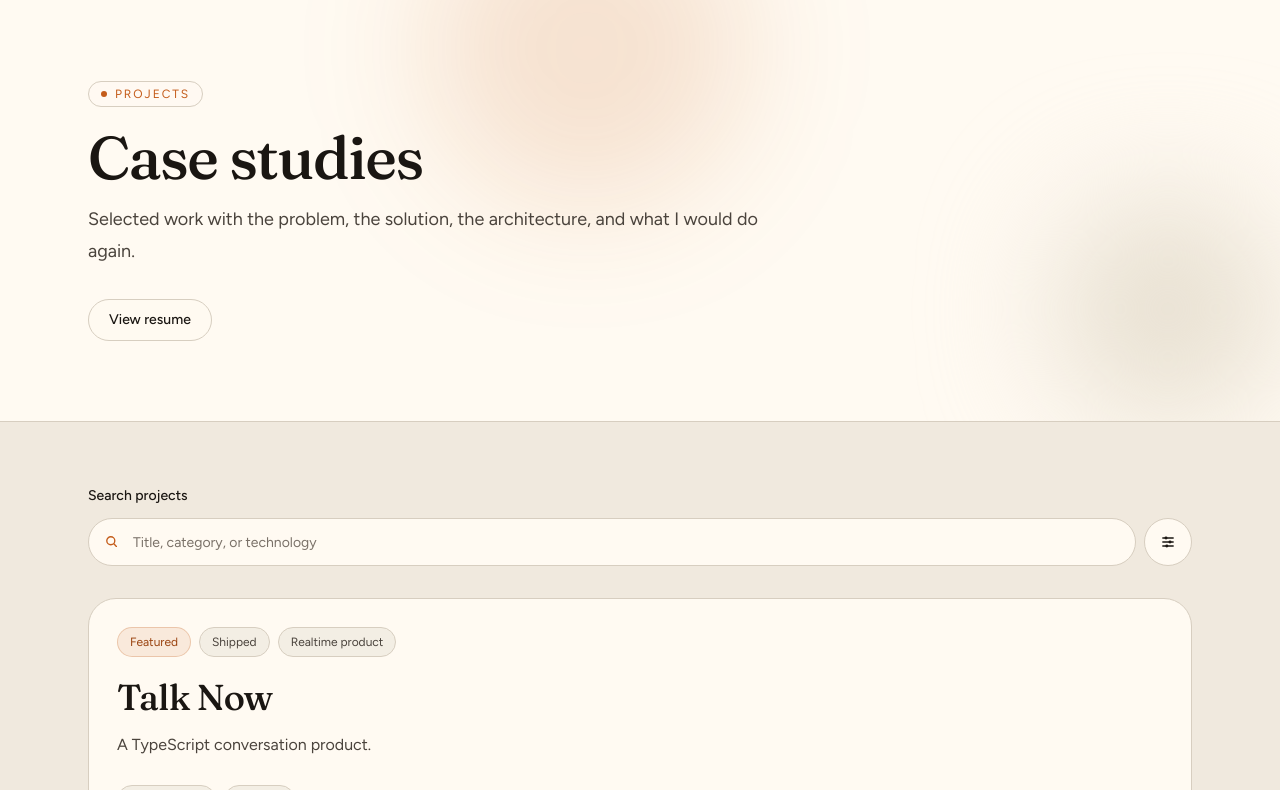
it: ProjectsPage › filters case studies by search and technology
Check: the text "A TypeScript conversation product." is shown, box x1=117 y1=735 x2=371 y2=754
Type "Post" into the search field labelled "Search projects" at (612, 542), box x1=88 y1=518 x2=1136 y2=566
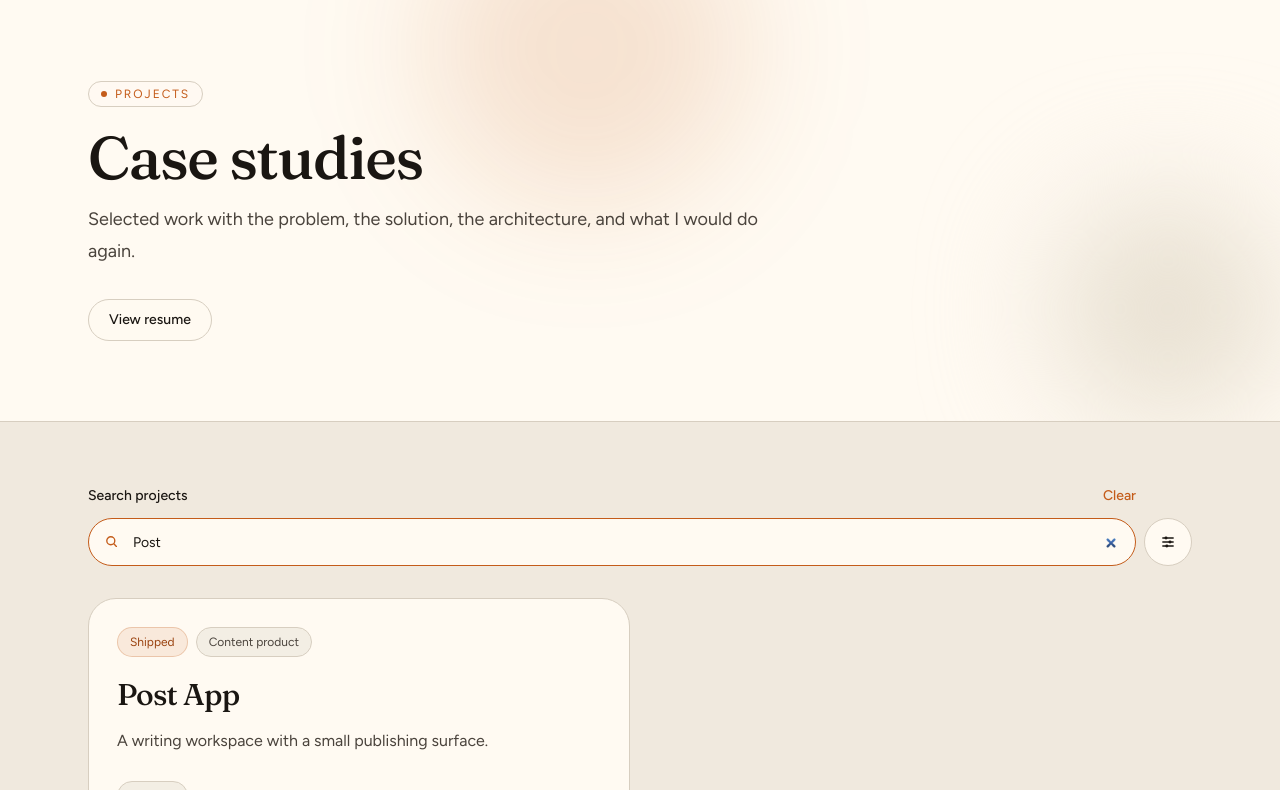
Check: the link "Talk Now" is gone
Check: the heading "Post App" is shown, box x1=117 y1=676 x2=239 y2=713
Click the button "Clear" at (1119, 496), box x1=1103 y1=486 x2=1136 y2=506
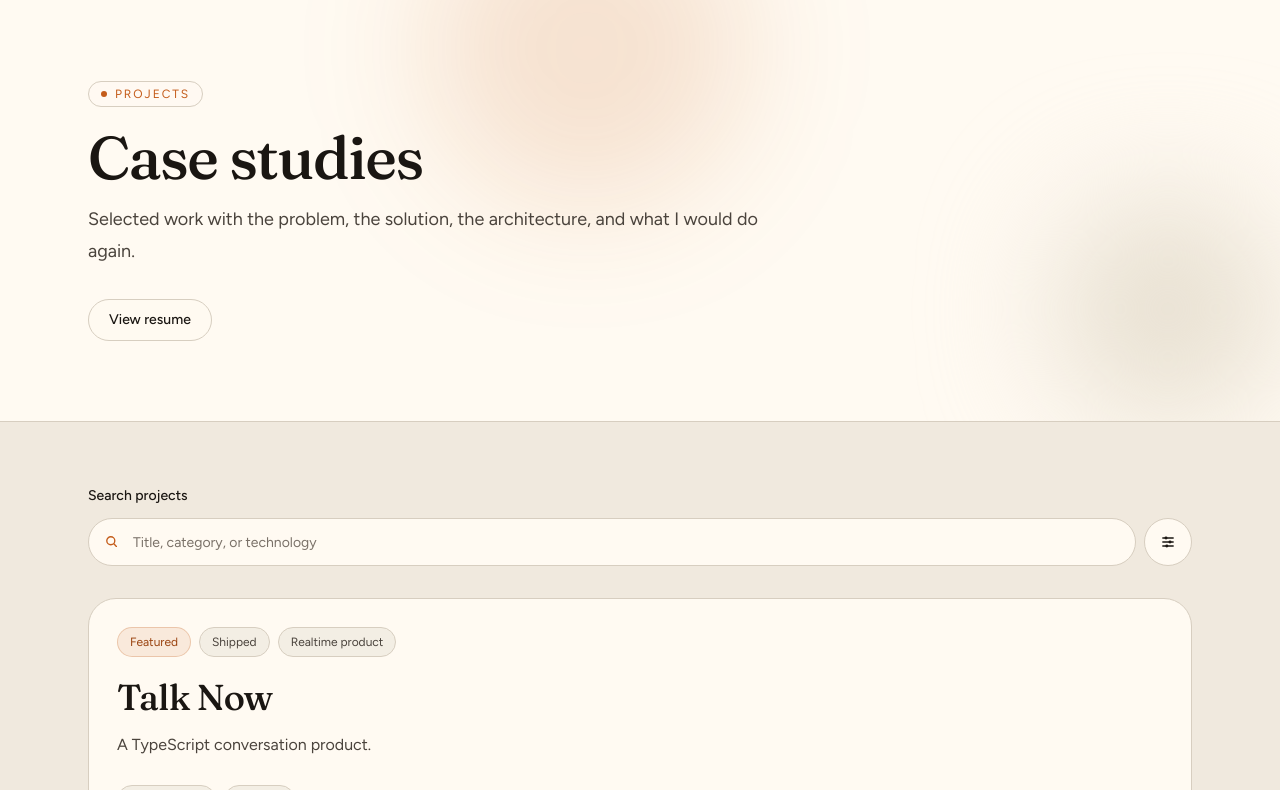
Click the button named "Filters" at (1168, 542), box x1=1144 y1=518 x2=1192 y2=566
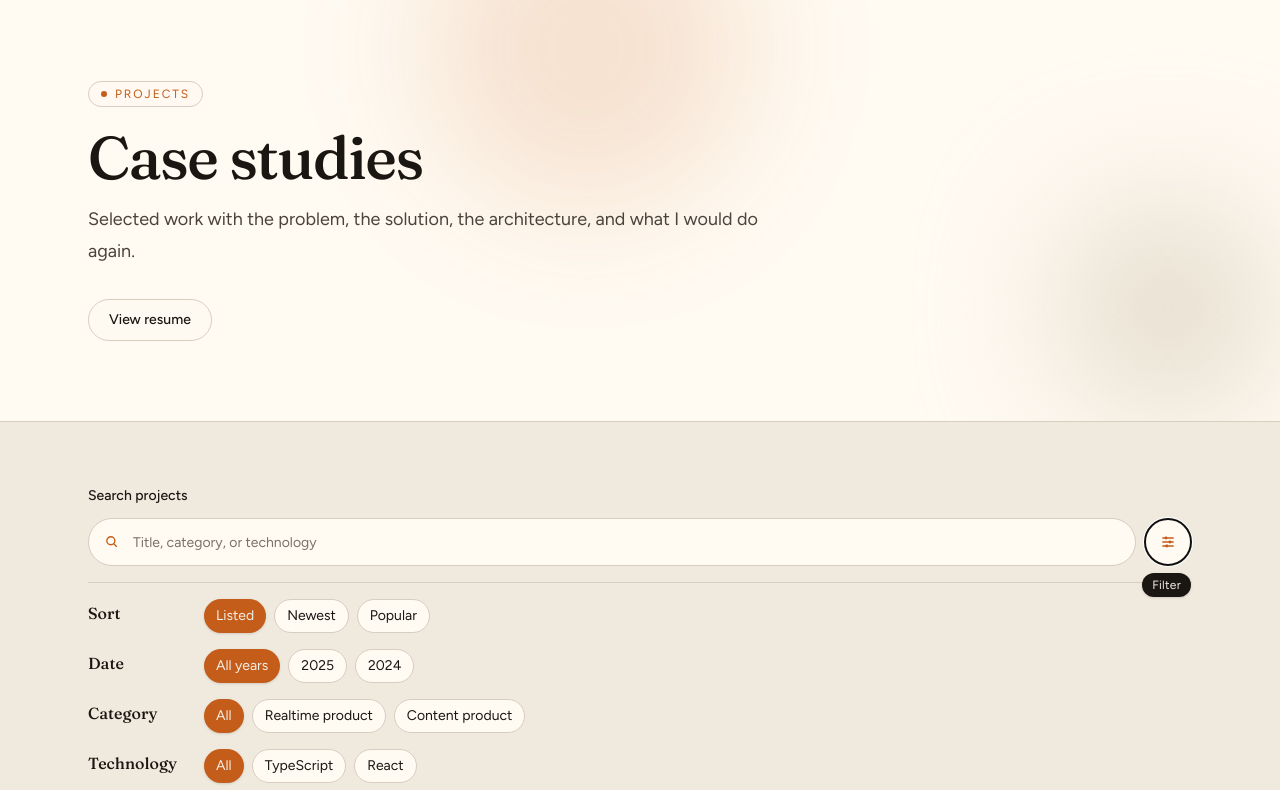
Click the button "TypeScript" at (299, 766), box x1=252 y1=749 x2=346 y2=783
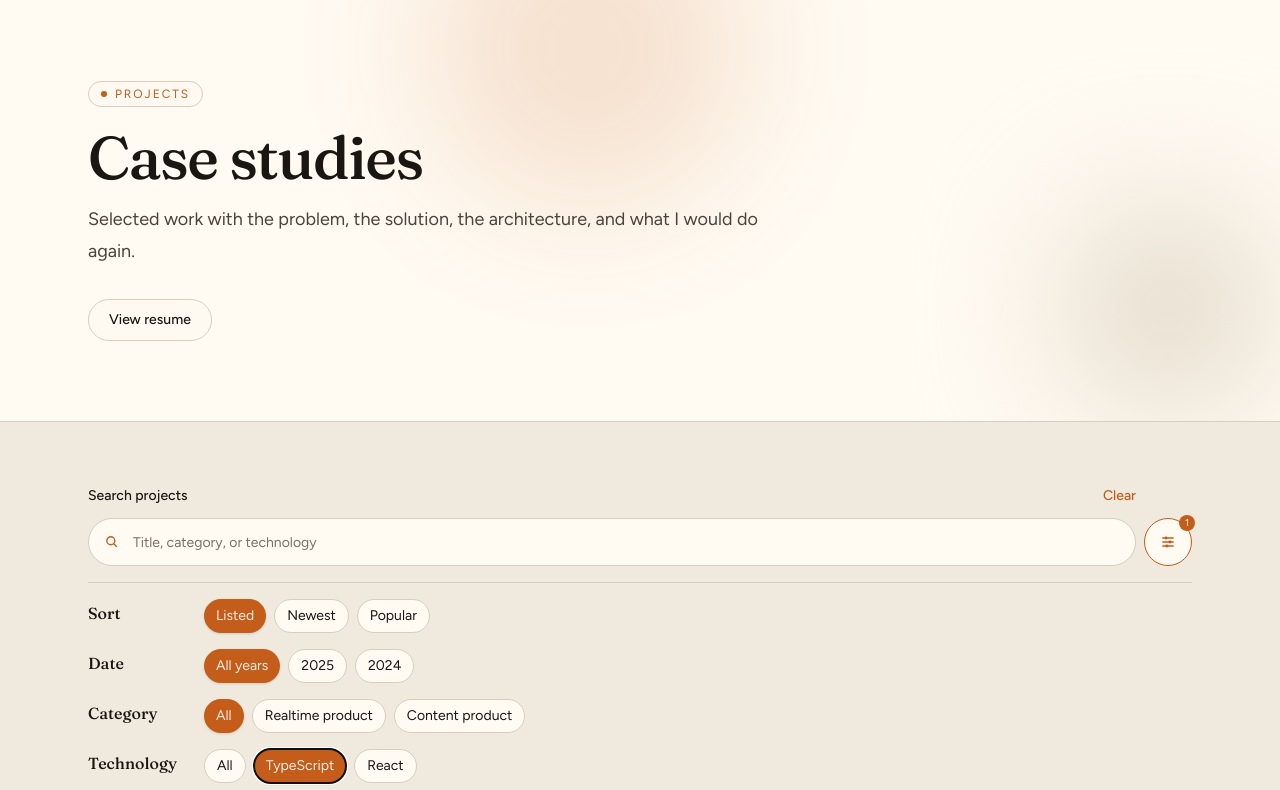
Check: the link "Post App" is not shown
Click the button "Clear" at (1119, 496), box x1=1103 y1=486 x2=1136 y2=506
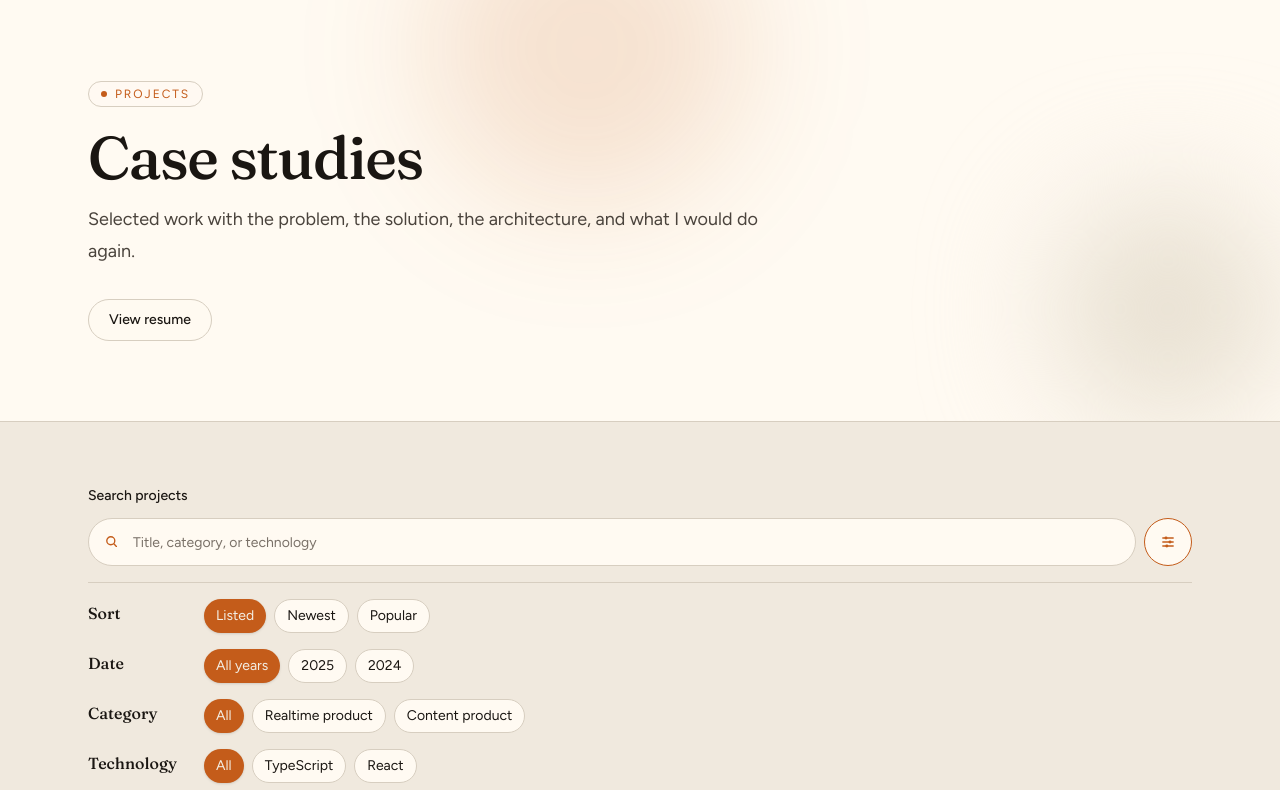
Click the button "2024" at (385, 666), box x1=355 y1=649 x2=414 y2=683
(page scrolled)
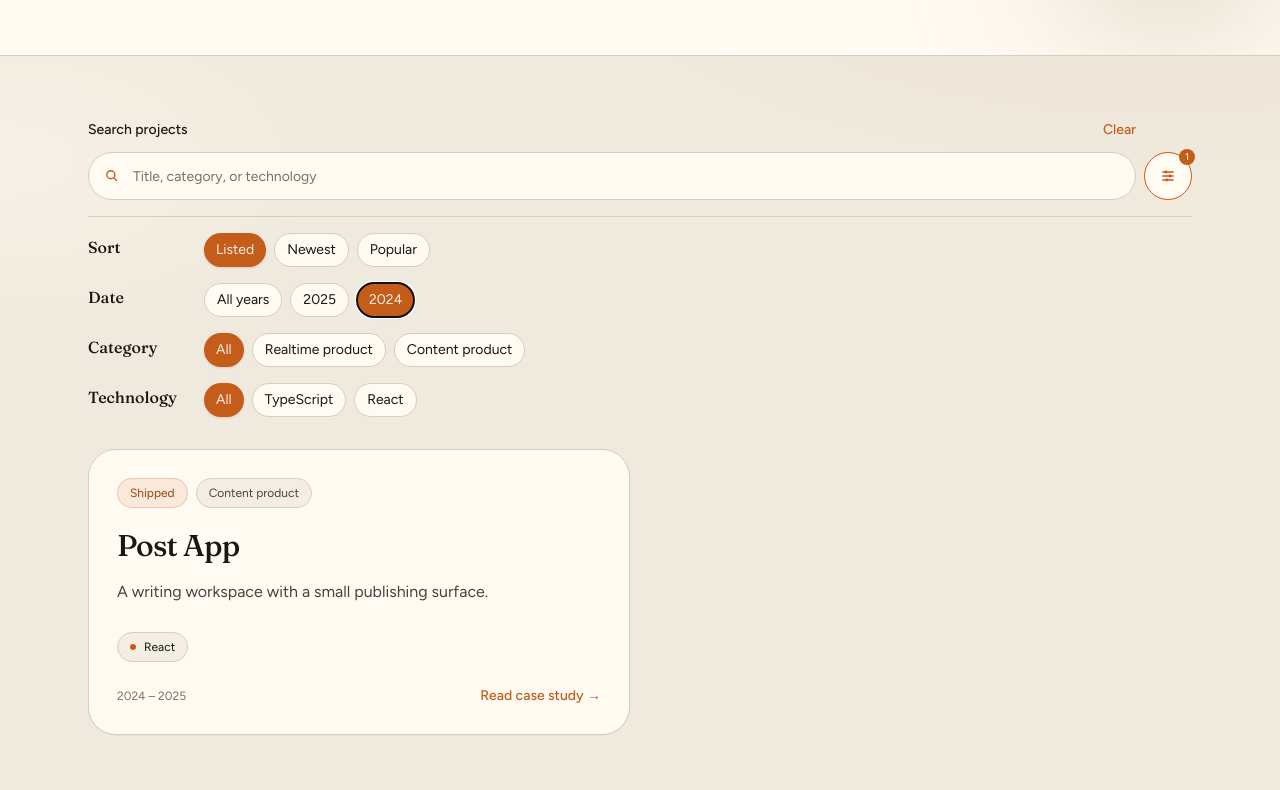
Check: the link "Talk Now" is not shown
Check: the heading "Post App" is shown, box x1=117 y1=527 x2=239 y2=564
